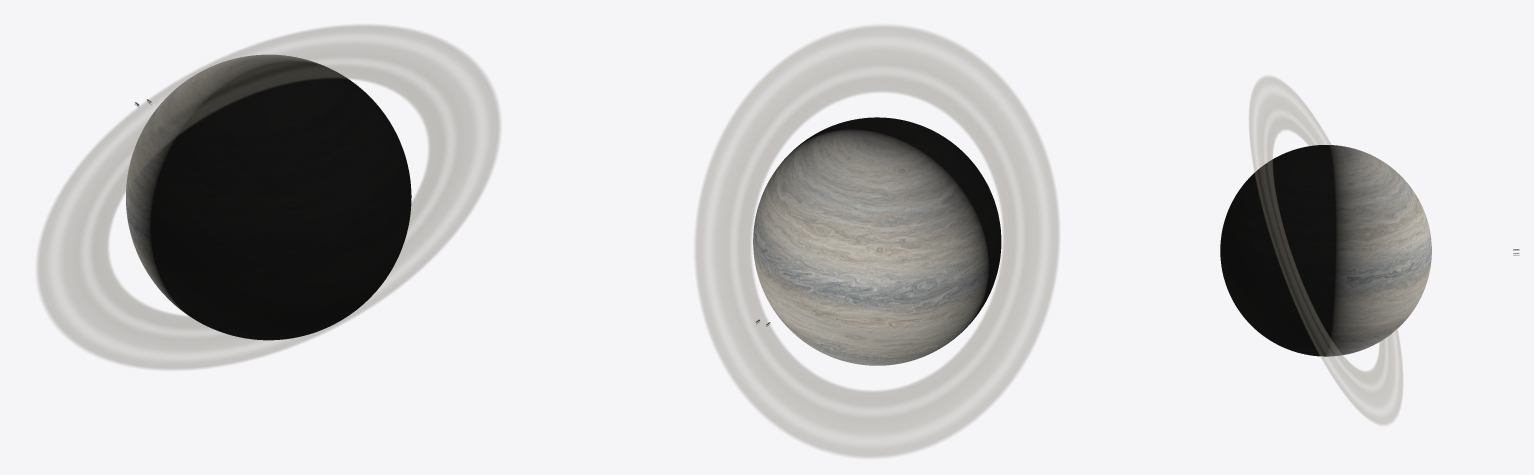
File: orbital-exterior.glb
3 views of the same model, side by side, from view 1: azimuth 30°, elevation 25°; view 2: azimuth 150°, elevation 25°; view 3: azimuth 270°, elevation 25° (orthographic). The views are drawn at different scales.
Parts seen in each view (by area): view 1: pale-gas-giant; view 2: pale-gas-giant; view 3: pale-gas-giant.
Part boxes in pixels (<box>): pale-gas-giant: <box>36,24,500,369</box>; pale-gas-giant: <box>695,25,1059,457</box>; pale-gas-giant: <box>1220,76,1431,425</box>.
Size of the model in its own units: 1788 by 1164 by 1018.
Materials: 6 (3 with a texture image).
